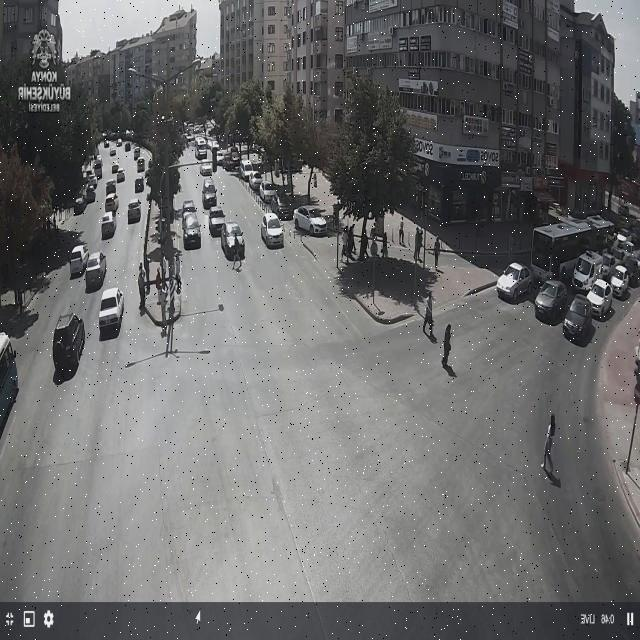Bus: (528, 214, 616, 280)
Car: (52, 312, 86, 372), (563, 297, 595, 339), (534, 279, 568, 316), (571, 252, 605, 288), (498, 264, 532, 298), (99, 286, 125, 330), (293, 207, 326, 235), (222, 223, 246, 260), (588, 281, 614, 315), (260, 213, 284, 248), (85, 252, 106, 288), (607, 266, 632, 296), (183, 214, 200, 249), (69, 244, 87, 275), (210, 206, 226, 235), (101, 211, 116, 236), (104, 191, 120, 213), (128, 196, 141, 223), (203, 185, 217, 209), (201, 160, 212, 176), (136, 177, 144, 194), (197, 144, 206, 159)
